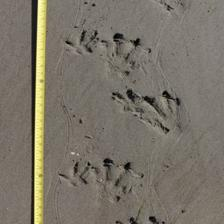beaver: (87, 159, 137, 209), (99, 31, 143, 81)
